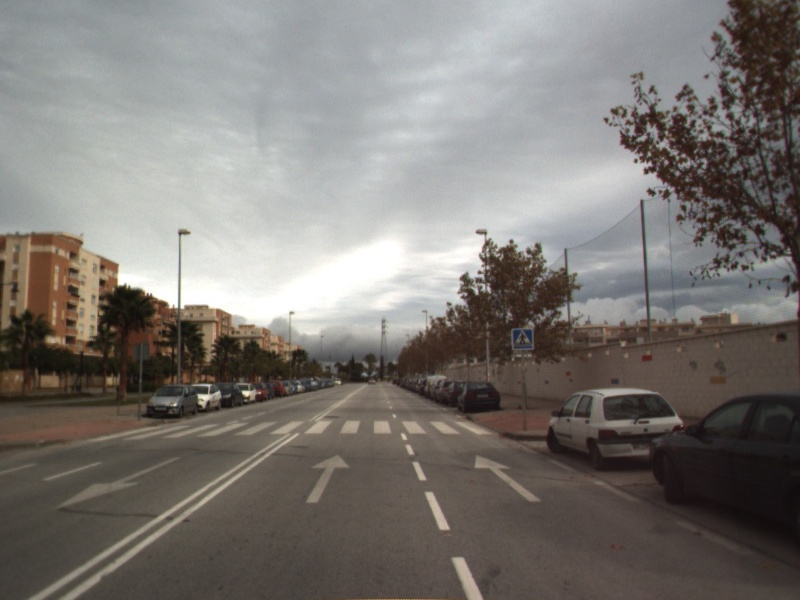STRAIGHT: (472, 452, 543, 503), (303, 452, 351, 505)
